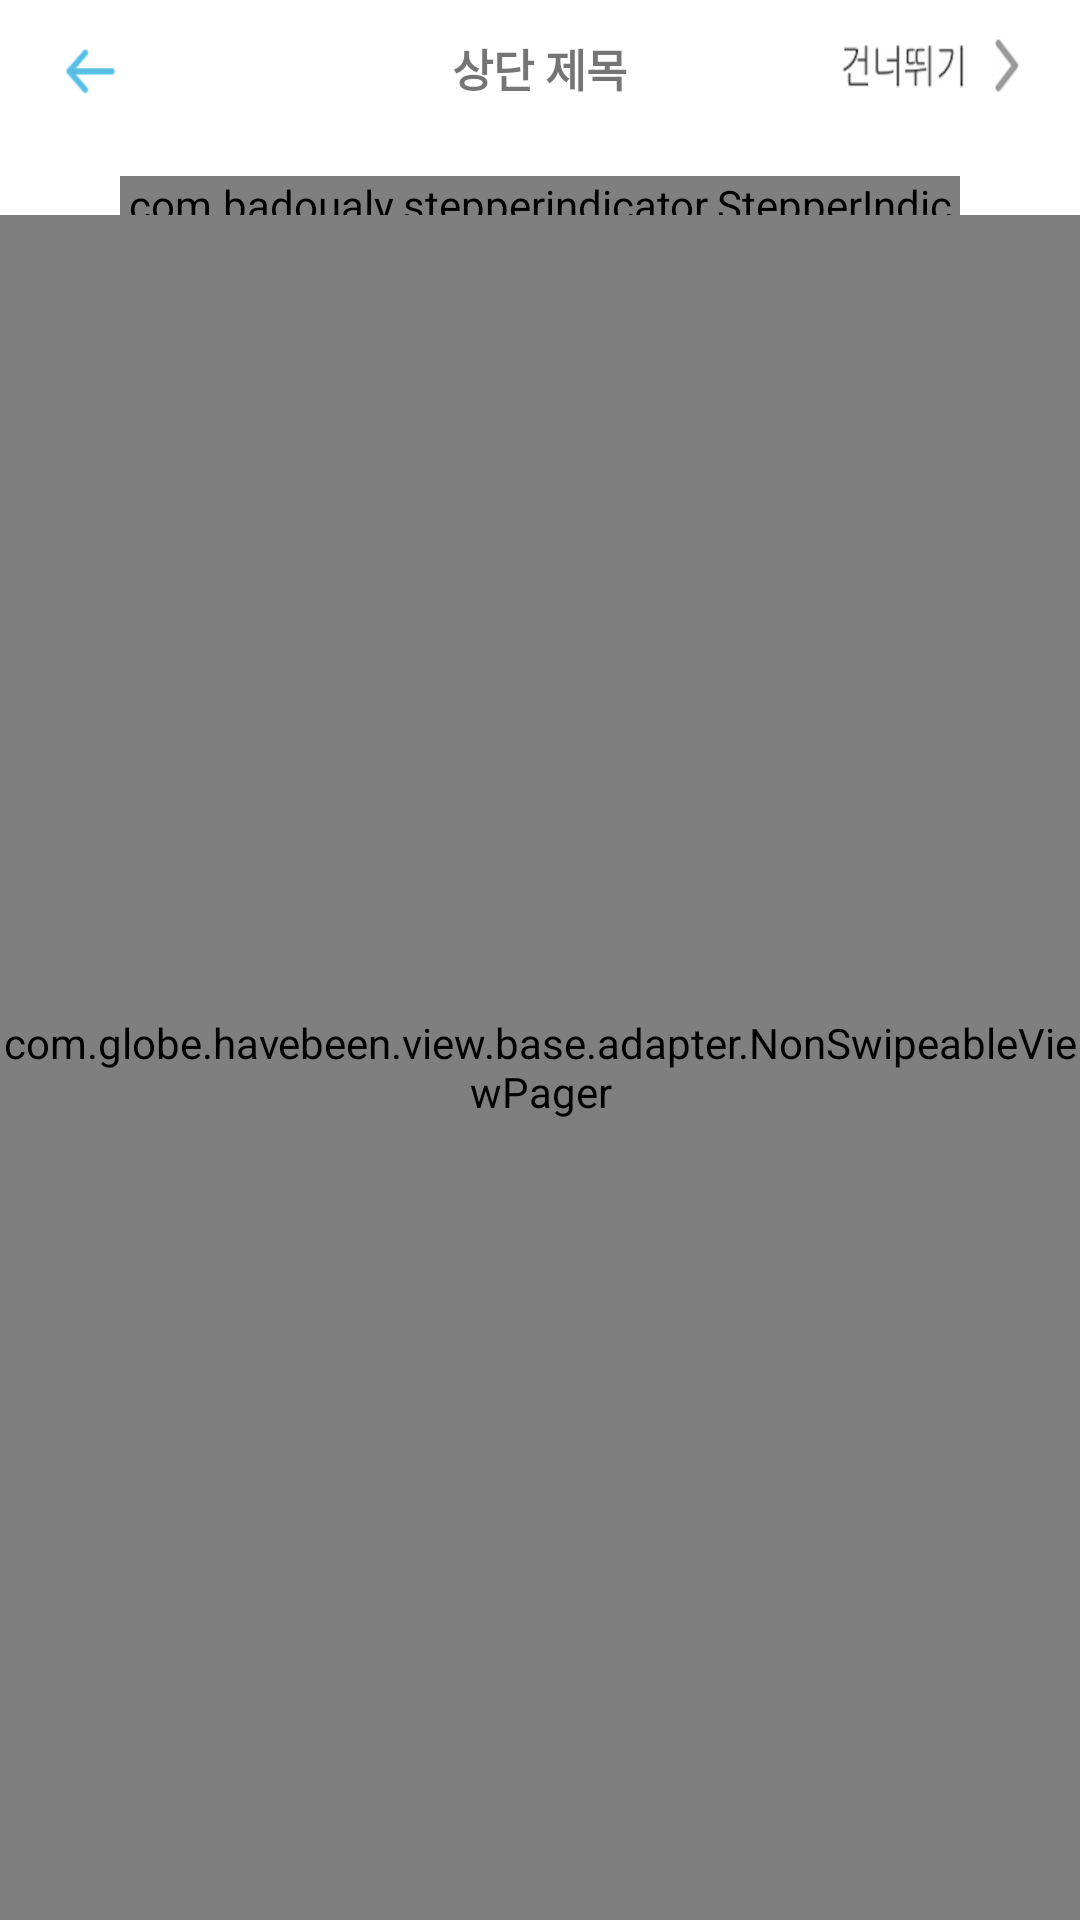

Icon click points for this 1080x1920 phone screenshot, format point (x, y):
room create home back: point (90, 71)
